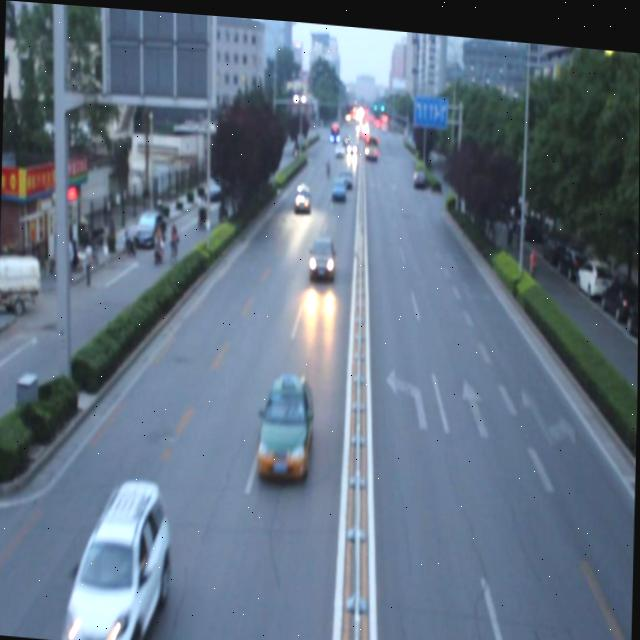car: (62, 469, 174, 640), (255, 365, 316, 482), (307, 228, 337, 277)
